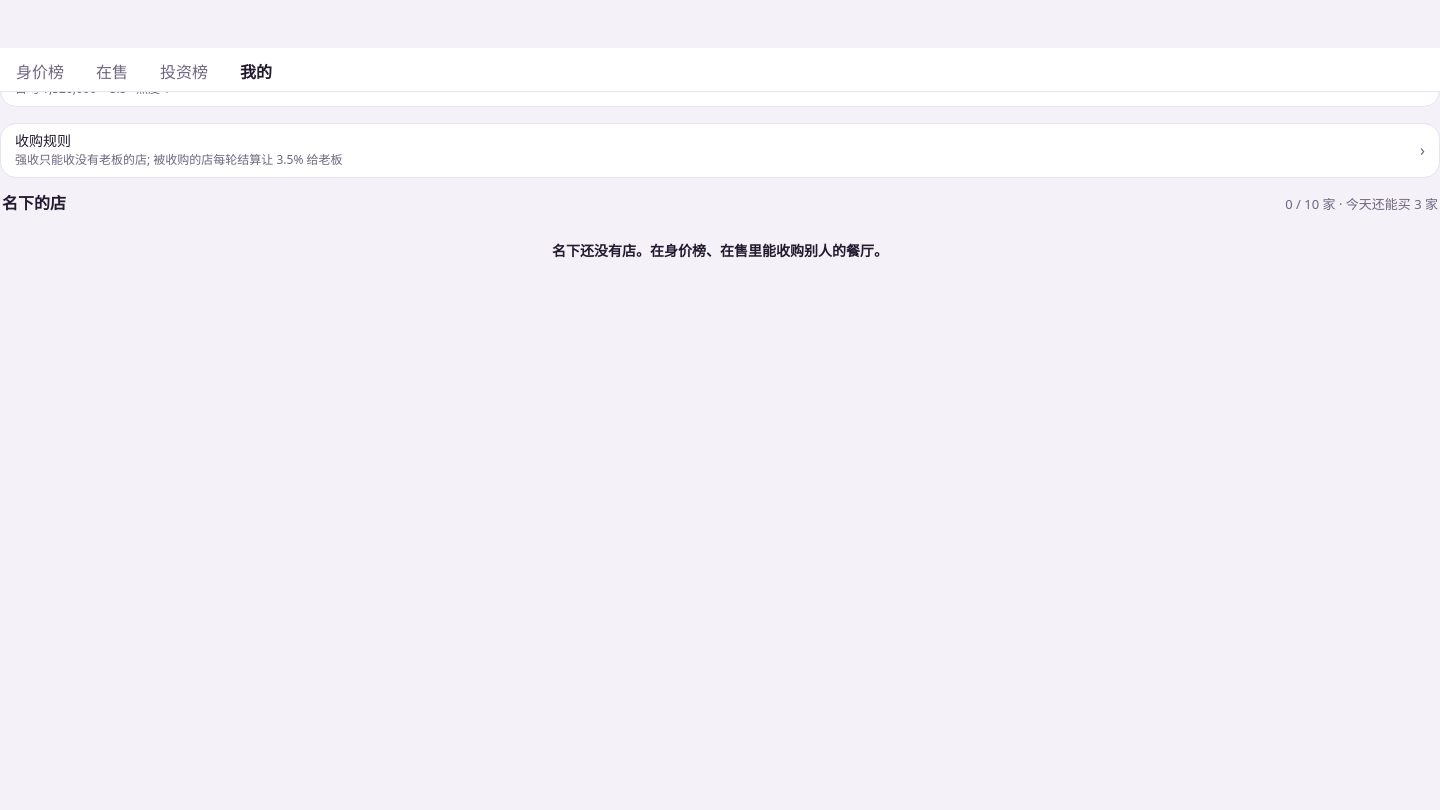
Test: AcquireView（收购 PR 3；改版 2026-10-16） › 收购规则：一条一行，数都从区服数值来
Step 1. Click the button with test id "acquire-rule-open" → click(43, 140), box [1,124,1439,177]
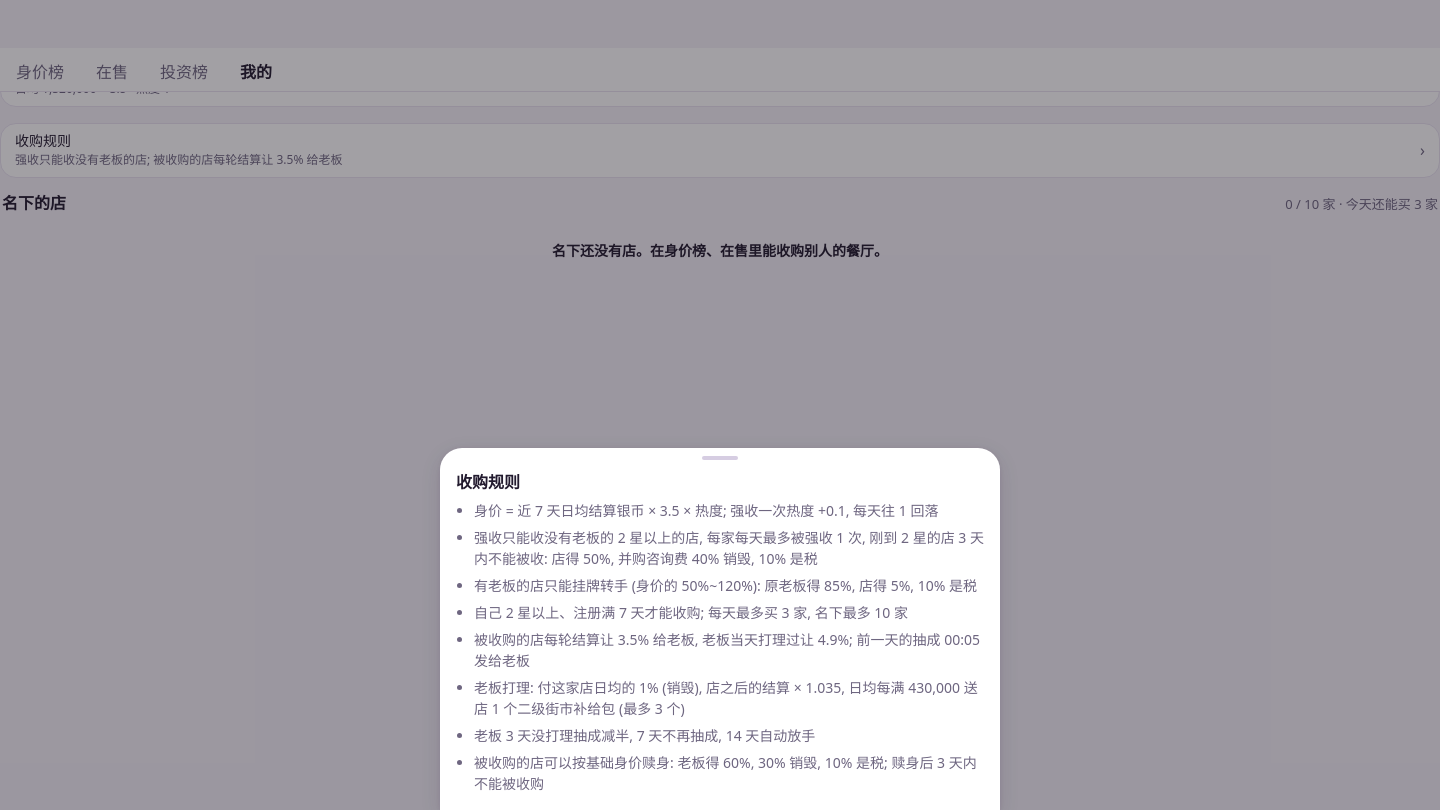
Check: the list item "身价 = 近 7 天日均结算银币 × 3.5 × 热度; 强收一次热度 +0.1, 每天往 1 回落" is shown, box [474,500,984,521]
Check: the 2nd list item shows "店得 50%, 并购咨询费 40% 销毁, 10% 是税", box [474,528,984,568]
Check: the list item "被收购的店可以按基础身价赎身: 老板得 60%, 30% 销毁, 10% 是税; 赎身后 3 天内不能被收购" is shown, box [474,752,984,794]
